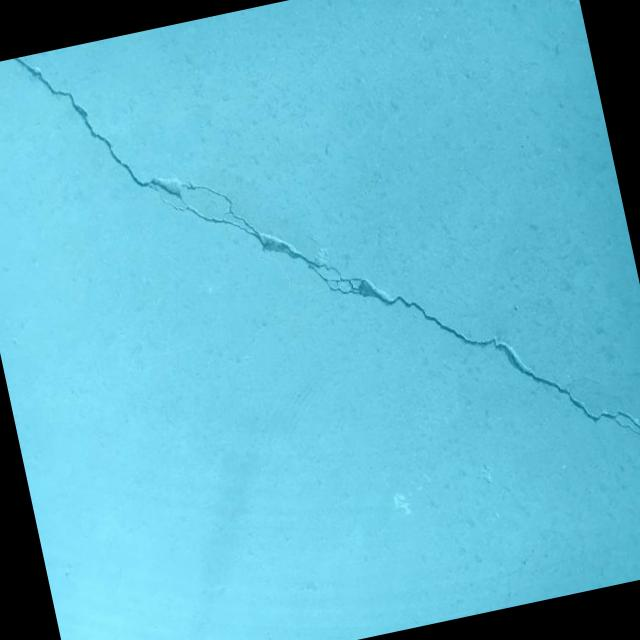crack: (11, 0, 640, 579)
